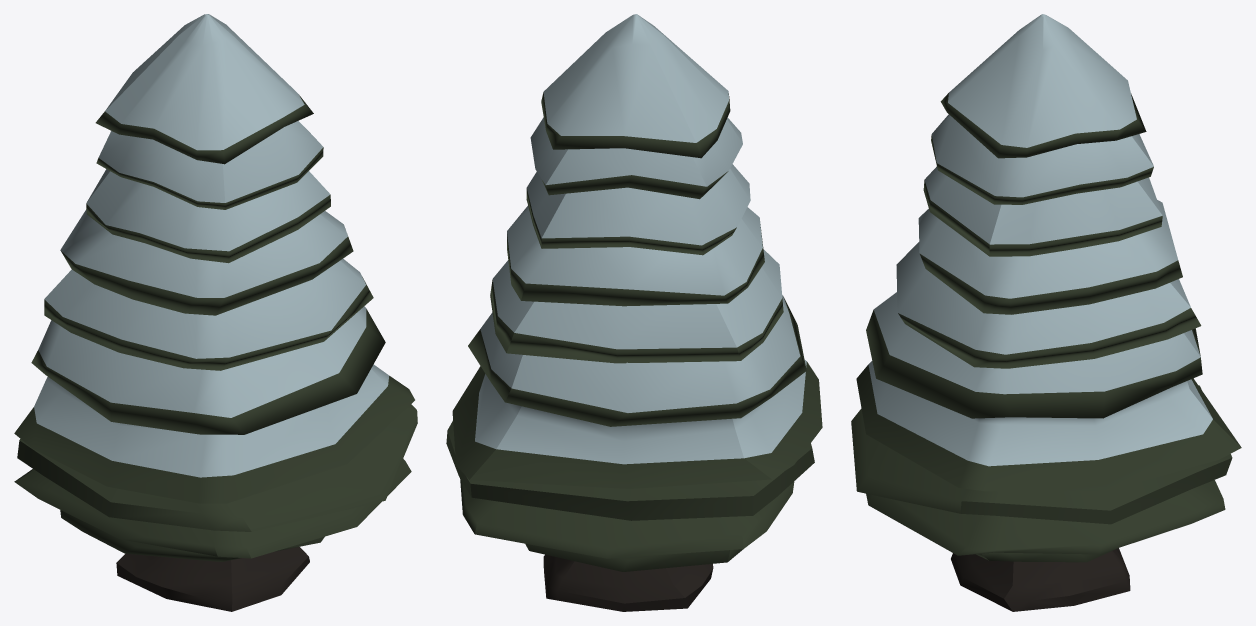
File: LushTreeModelV1Short.fbx
3 views of the same model, side by side, from view 1: azimuth 30°, elevation 25°; view 2: azimuth 150°, elevation 25°; view 3: azimuth 270°, elevation 25° (orthographic).
Visible parts, largest first — view 1: LushTreeModelV1Short; view 2: LushTreeModelV1Short; view 3: LushTreeModelV1Short.
Part boxes in pixels (box(x1,y1,x2,y2)): LushTreeModelV1Short: box(14, 14, 417, 611); LushTreeModelV1Short: box(446, 14, 822, 611); LushTreeModelV1Short: box(851, 14, 1241, 611).
Size of the model in its own units: 485 by 764 by 487.
